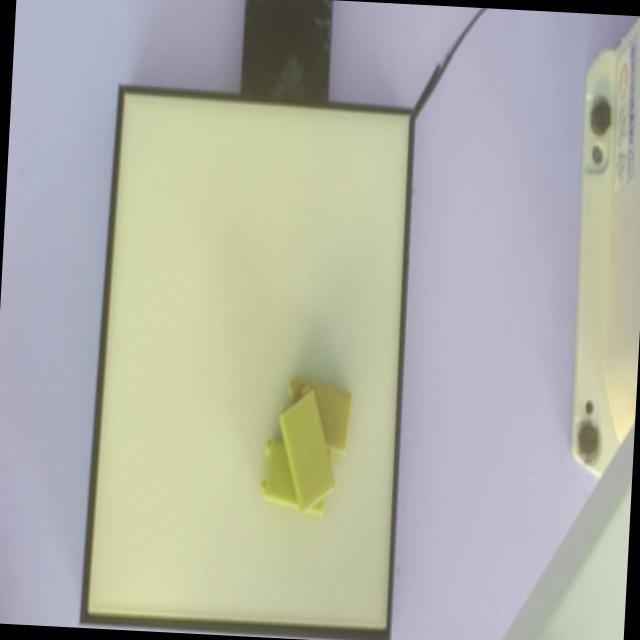bateria: (278, 383, 336, 513)
mesa: (79, 84, 417, 640)
